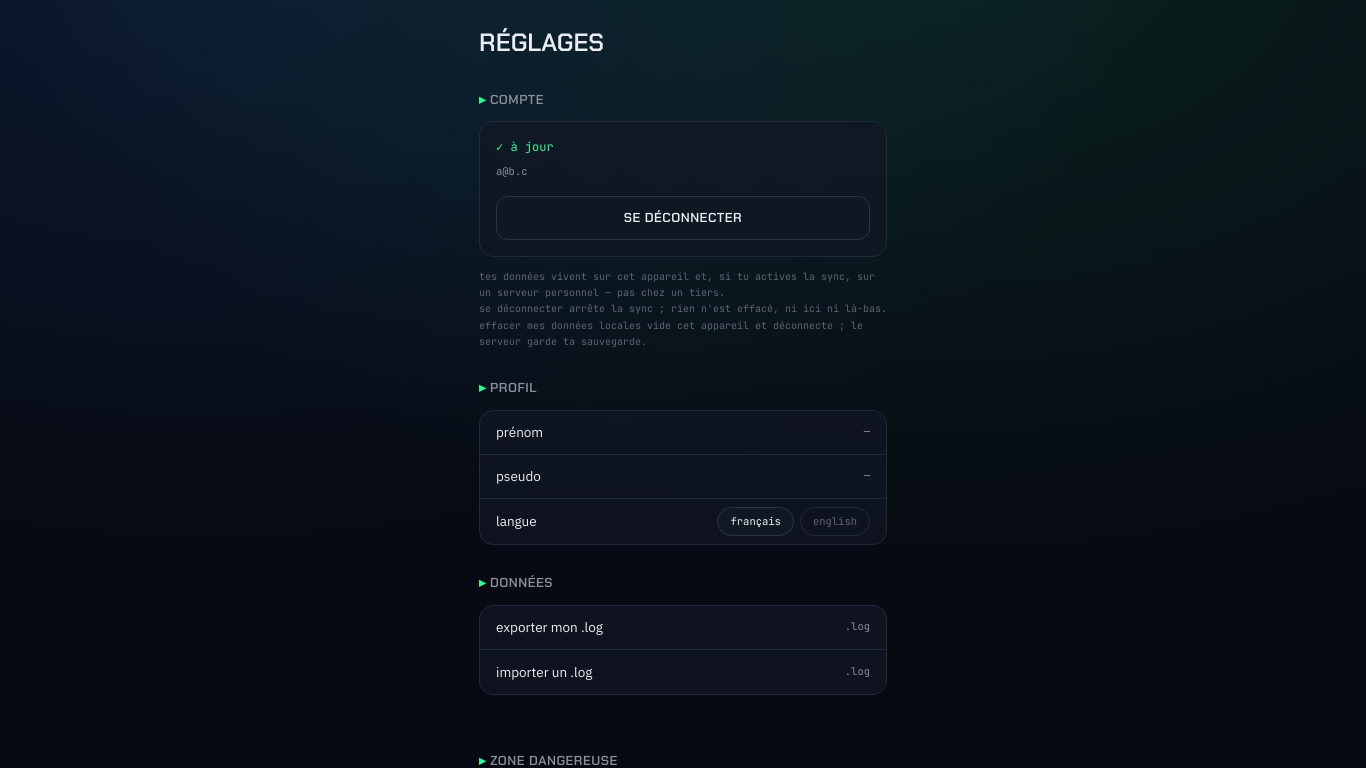
Test case: rangée pseudo › refuse un pseudo hors format sans appeler le serveur
Click the button "pseudo —": {"x": 518, "y": 476} [480, 454, 886, 498]
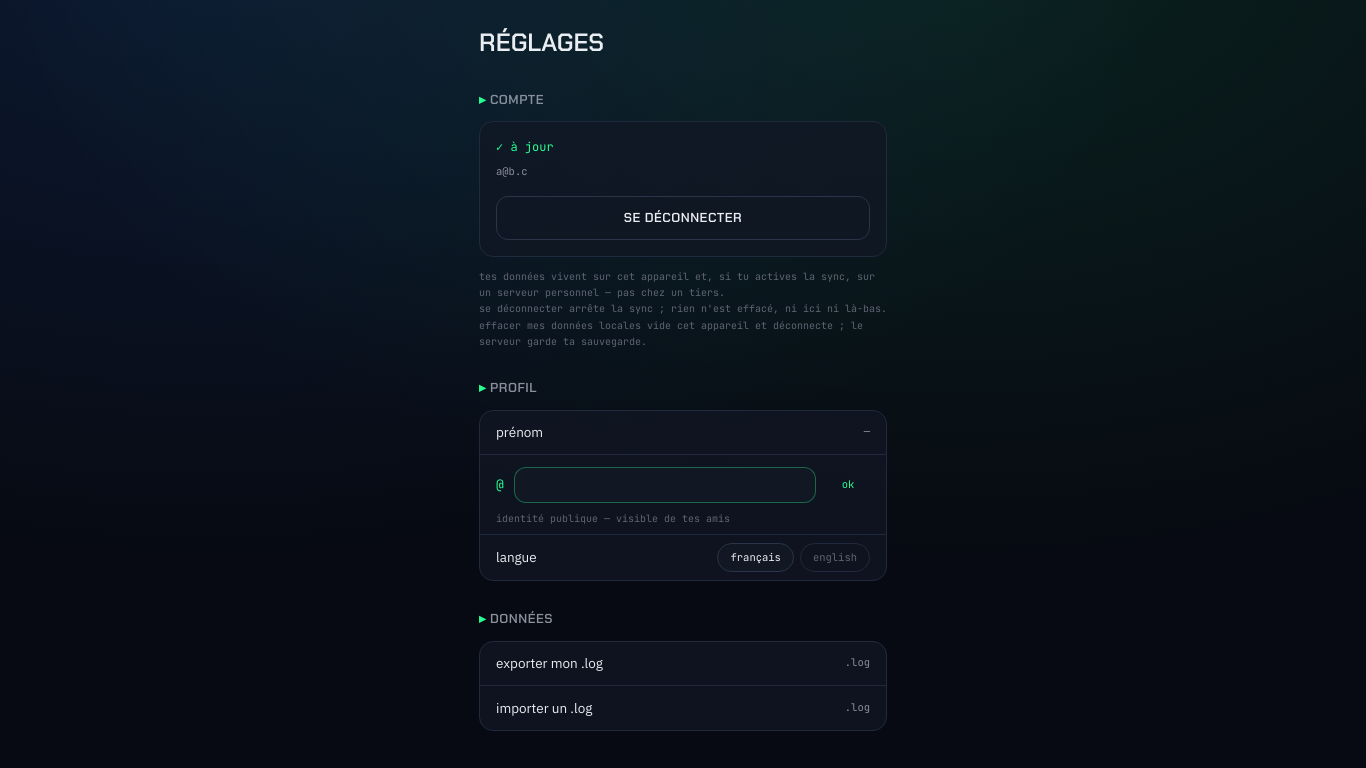
In the field named "pseudo": {"x": 665, "y": 484} [514, 466, 816, 502], type "ab"
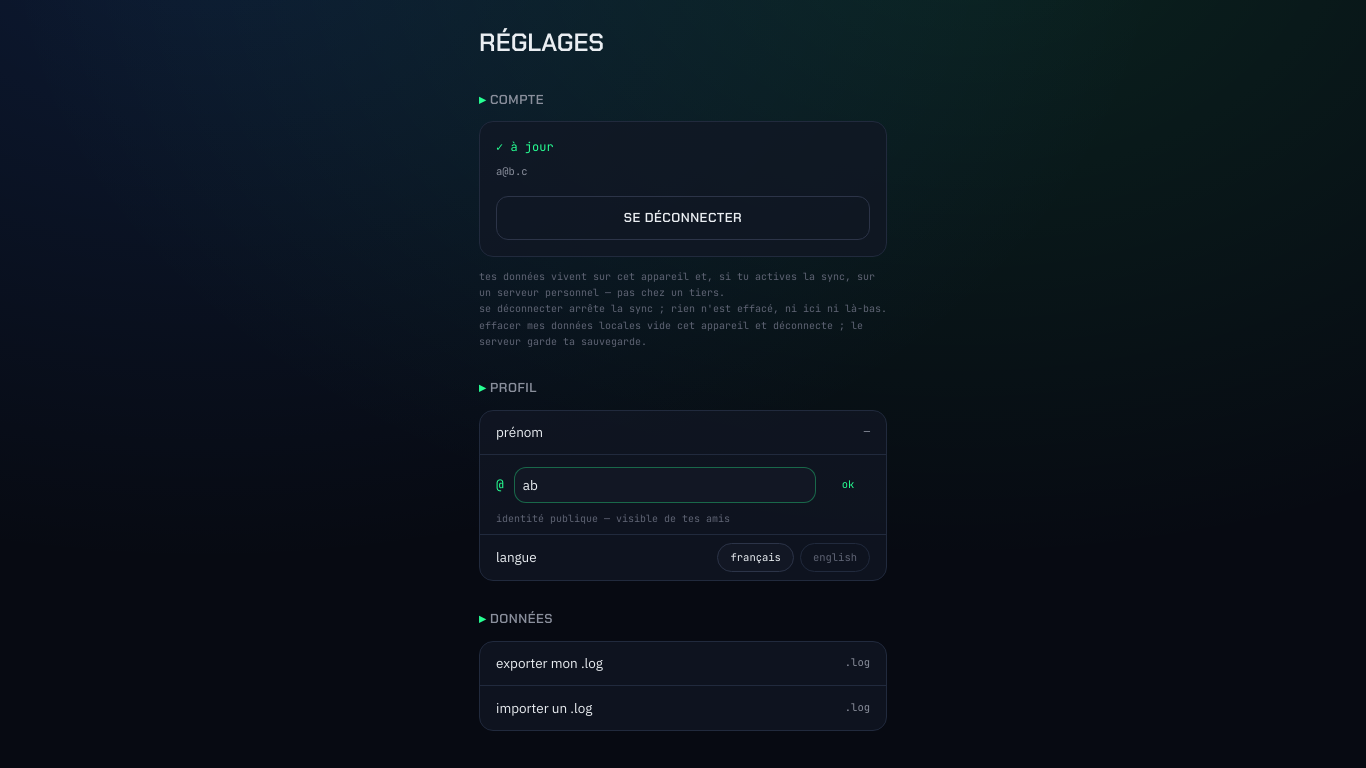
Submit the form named "pseudo", box [480, 454, 886, 534]
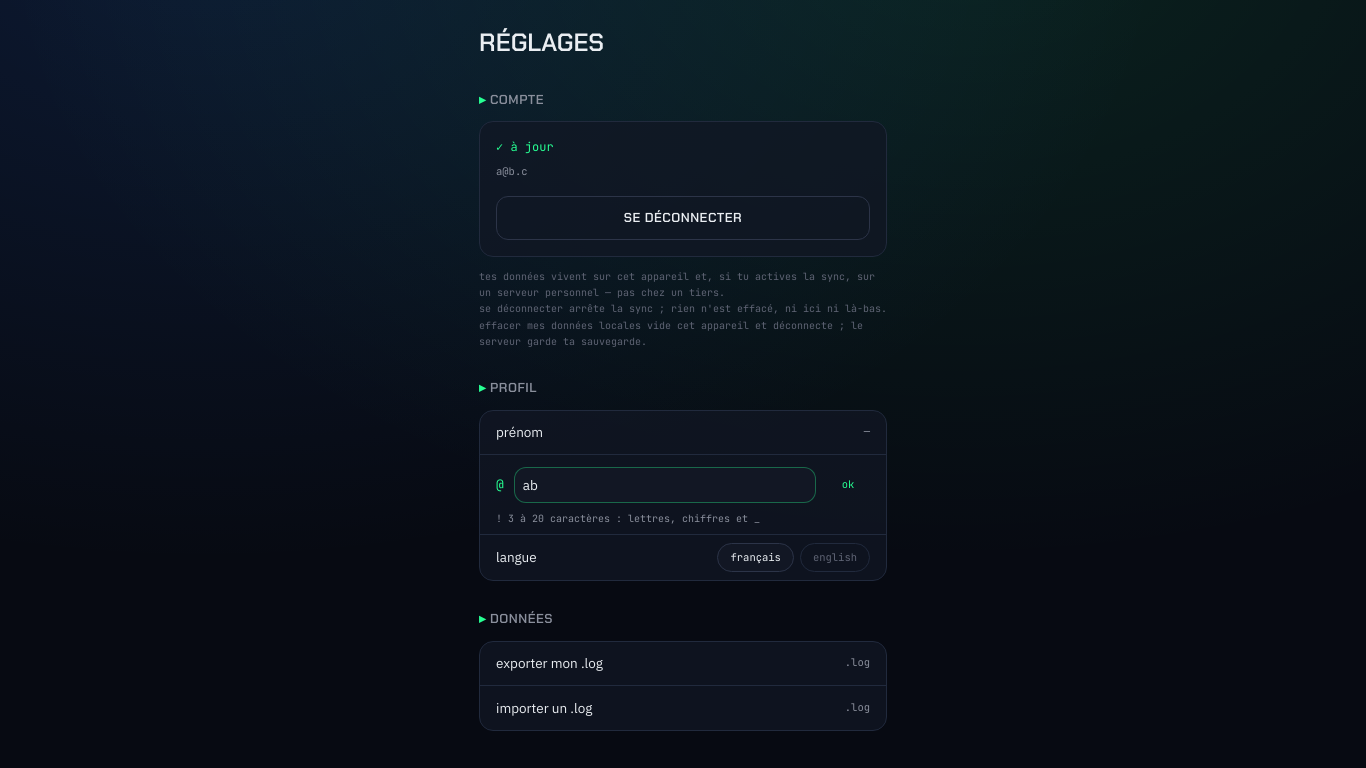
Expected: the text "! 3 à 20 caractères : lettres, chiffres et _" is shown, [496, 512, 760, 524]
